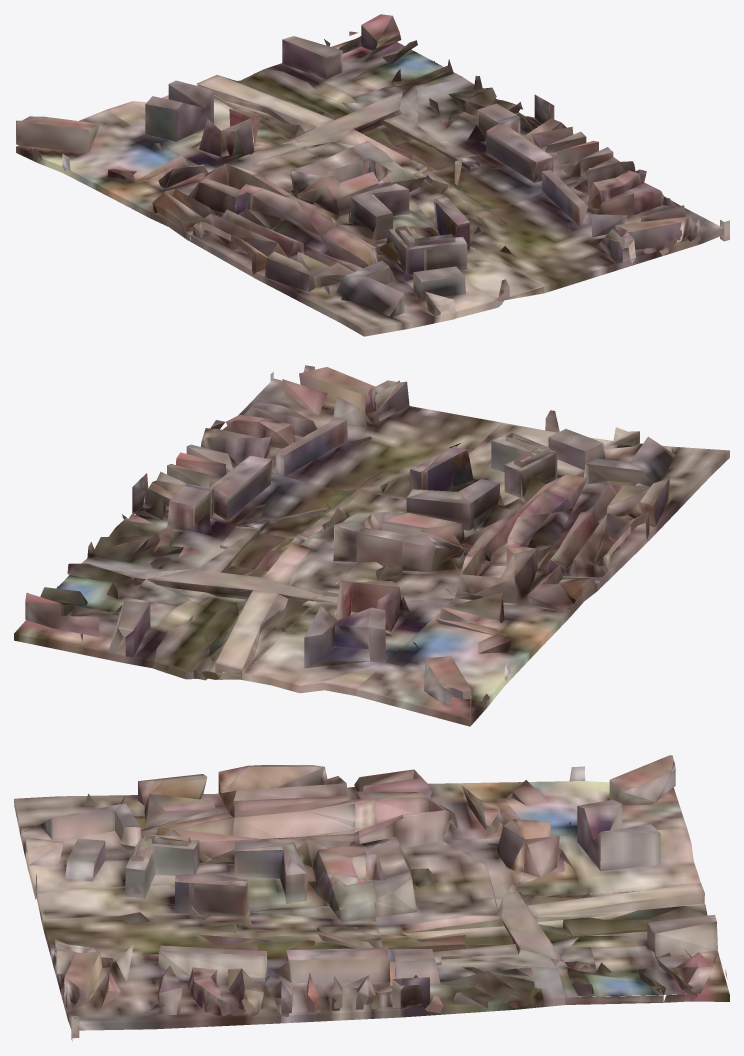
3 renders of one model, top to bottom at view 1: azimuth 30°, elevation 25°; view 2: azimuth 150°, elevation 25°; view 3: azimuth 270°, elevation 25°, orthographic. The views are drawn at different scales.
Visible parts, largest first — view 1: Mesh_0; view 2: Mesh_0; view 3: Mesh_0.
Boxes of the visible parts, left/top/right/bottom form: Mesh_0: left=16, top=14, right=729, bottom=336; Mesh_0: left=14, top=365, right=729, bottom=726; Mesh_0: left=14, top=755, right=729, bottom=1041.
Size of the model in its own units: 542 by 64.44 by 659.
Materials: 2 (2 with a texture image).
